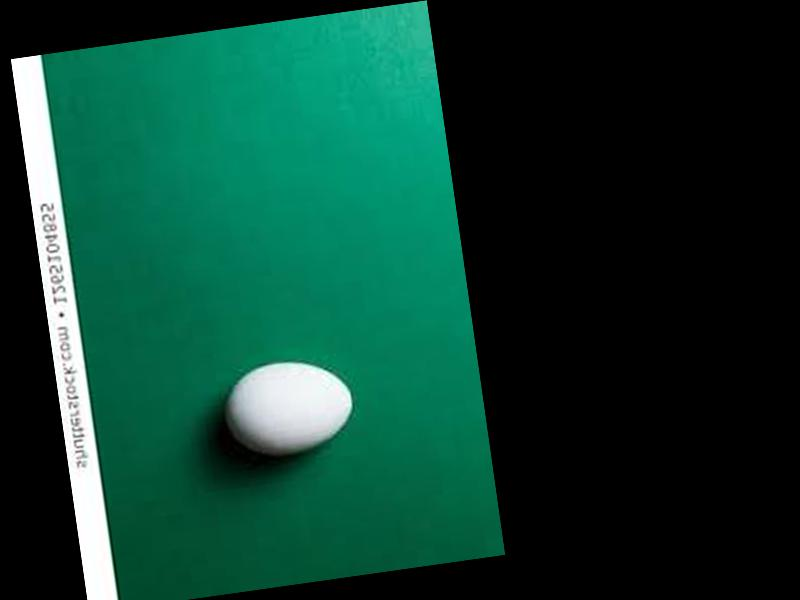Eggs: (218, 349, 356, 458)
